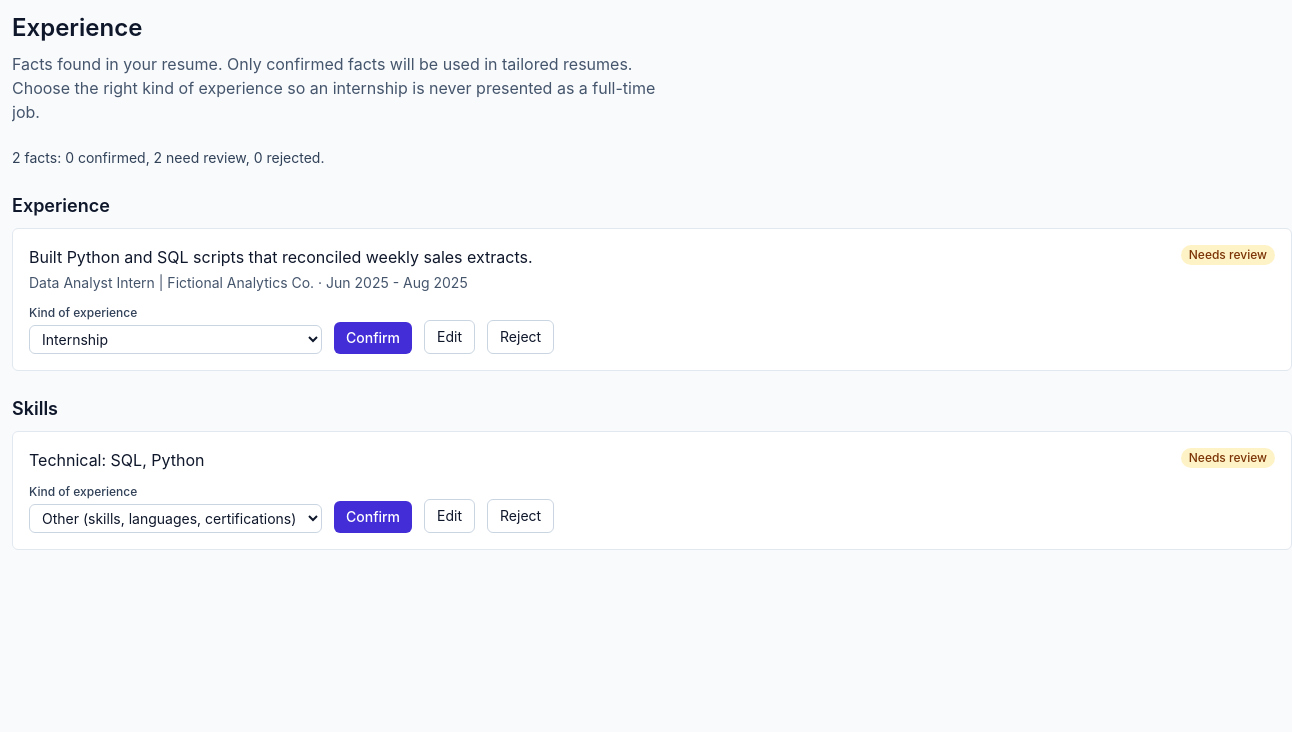
Test: ExperiencePage › groups facts by section and confirms with the chosen kind
Expected: the 2nd heading "Experience" is shown, top-left (12, 195), bottom-right (110, 216)
Expected: the heading "Skills" is shown, top-left (12, 398), bottom-right (58, 419)
Click the 1st button "Confirm" at (373, 338), box top-left (334, 322), bottom-right (412, 354)
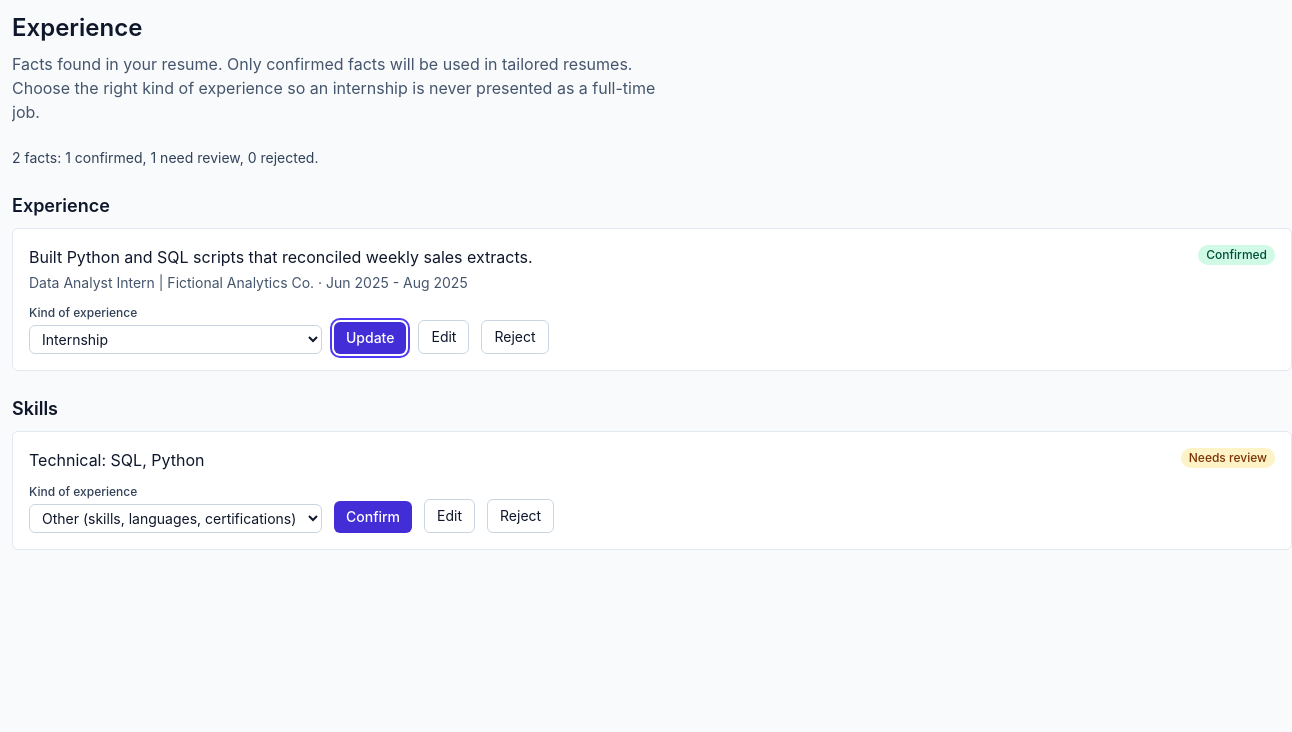
Now the text "Confirmed" is shown, box top-left (1198, 245), bottom-right (1275, 265)
